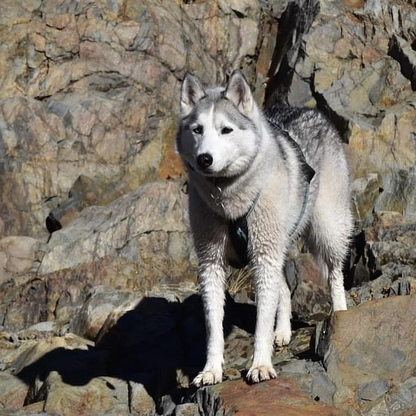husky: (174, 65, 355, 388)
